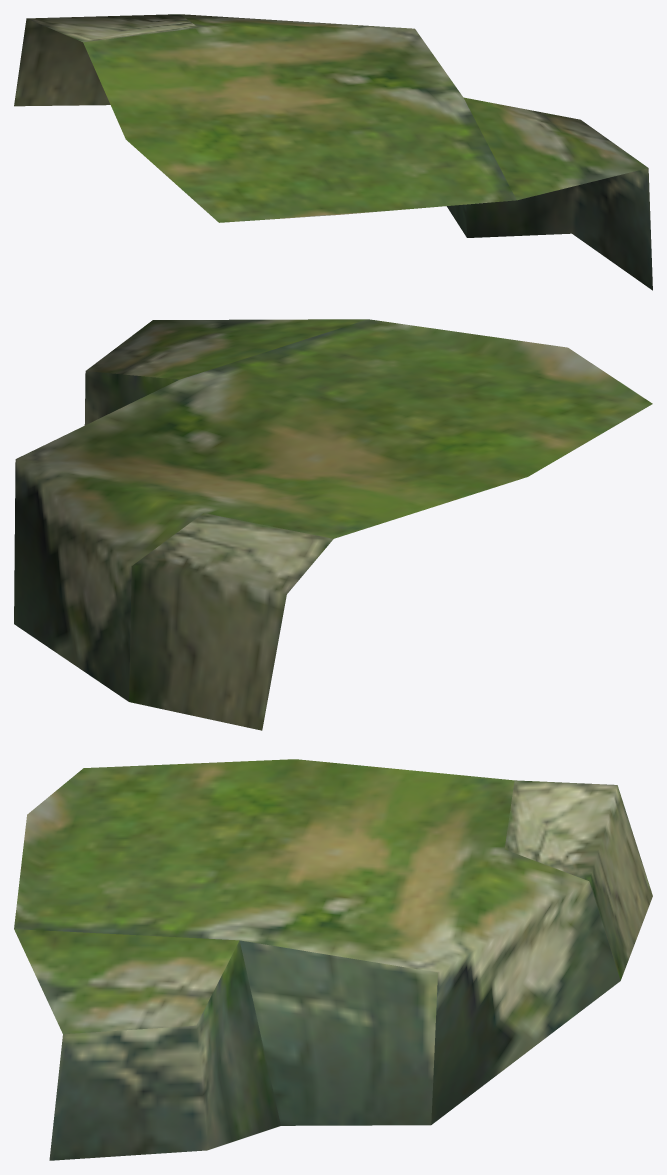
The model's file is S_Rock_Green054_1060_23.fbx.
3 views of the same model, one above another, from view 1: azimuth 30°, elevation 25°; view 2: azimuth 150°, elevation 25°; view 3: azimuth 270°, elevation 25° (orthographic). The views are drawn at different scales.
Parts seen in each view (by area): view 1: S_Rock_Green054_1060_23; view 2: S_Rock_Green054_1060_23; view 3: S_Rock_Green054_1060_23.
Boxes of the visible parts, box(x1,y1,x2,y2) form: S_Rock_Green054_1060_23: box(14, 14, 652, 290); S_Rock_Green054_1060_23: box(14, 319, 652, 730); S_Rock_Green054_1060_23: box(14, 759, 652, 1160).
Size of the model in its own units: 1232 by 516 by 1498.
Materials: 1 (1 with a texture image).
